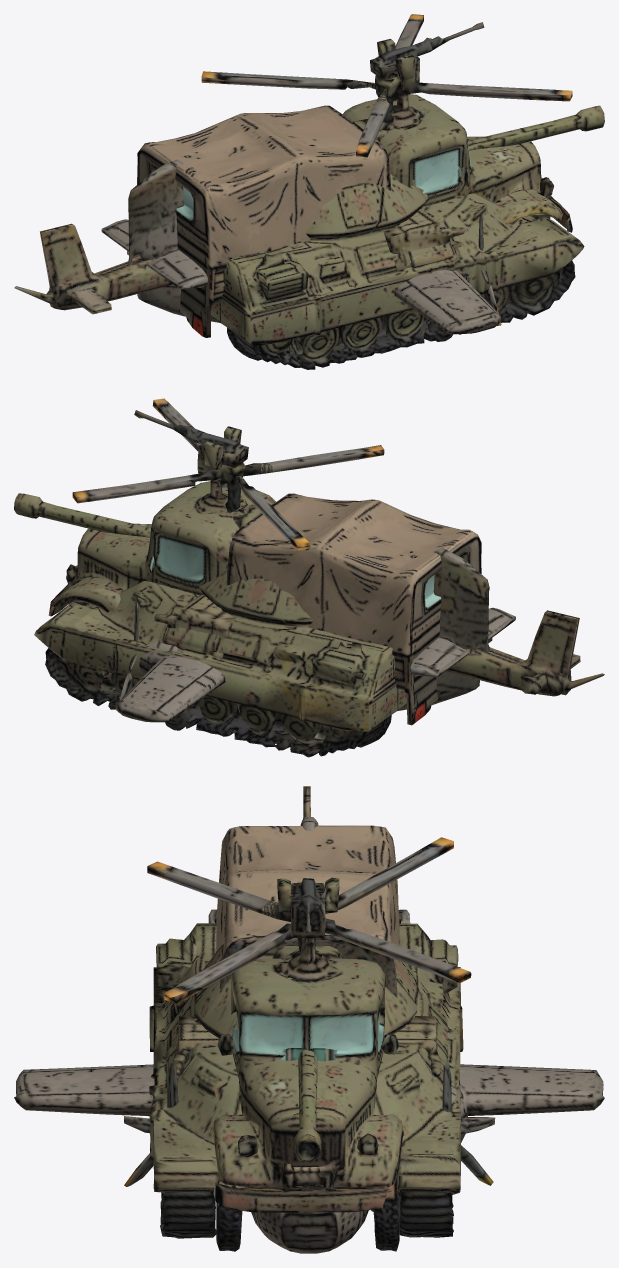
File: military+vehicles+3d+model.fbx
3 views of the same model, one above another, from view 1: azimuth 30°, elevation 25°; view 2: azimuth 150°, elevation 25°; view 3: azimuth 270°, elevation 25° (orthographic). The views are drawn at different scales.
Parts seen in each view (by area): view 1: carg, tank, helicopter, airplane; view 2: carg, tank, helicopter, airplane; view 3: carg, tank, airplane, helicopter.
Boxes of the visible parts, x1,y1,x2,y2 form: carg: [137, 22, 572, 360]; tank: [127, 105, 604, 369]; helicopter: [14, 14, 572, 314]; airplane: [101, 159, 501, 341]; carg: [48, 410, 481, 747]; tank: [14, 493, 492, 757]; helicopter: [72, 398, 604, 696]; airplane: [87, 548, 515, 730]; carg: [213, 825, 403, 1251]; tank: [149, 923, 463, 1238]; airplane: [14, 817, 604, 1253]; helicopter: [147, 786, 471, 1211].
Size of the model in its own units: 63.56 by 26.51 by 44.74.
